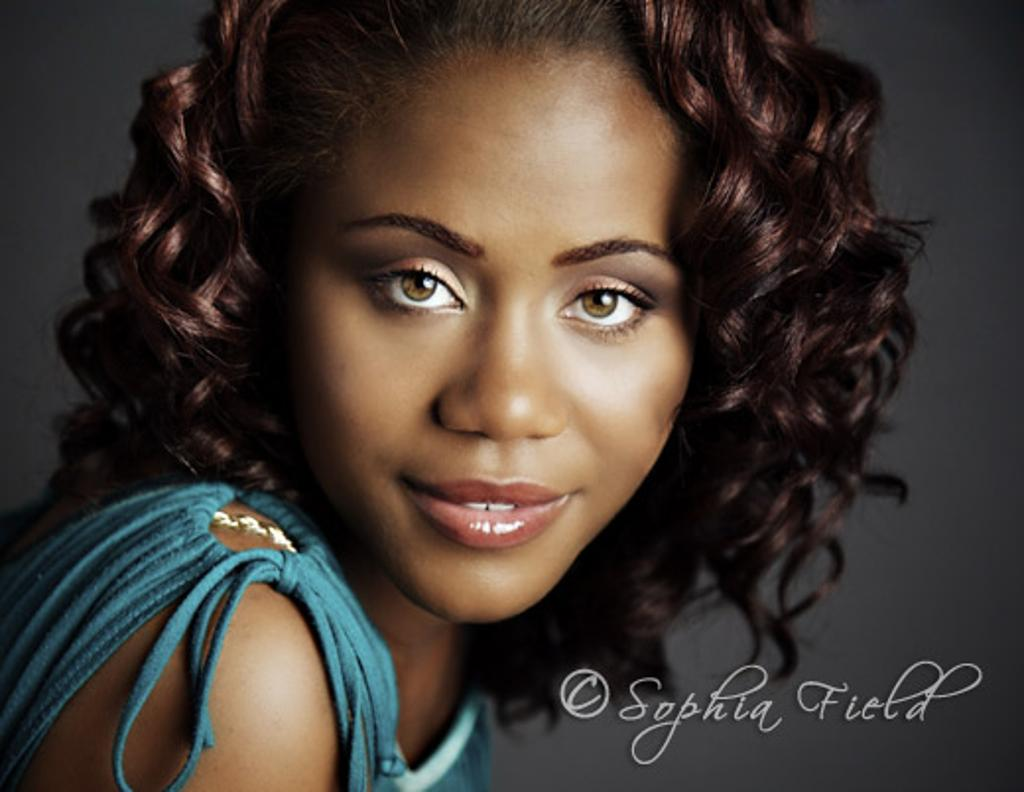face: (300, 66, 706, 626)
